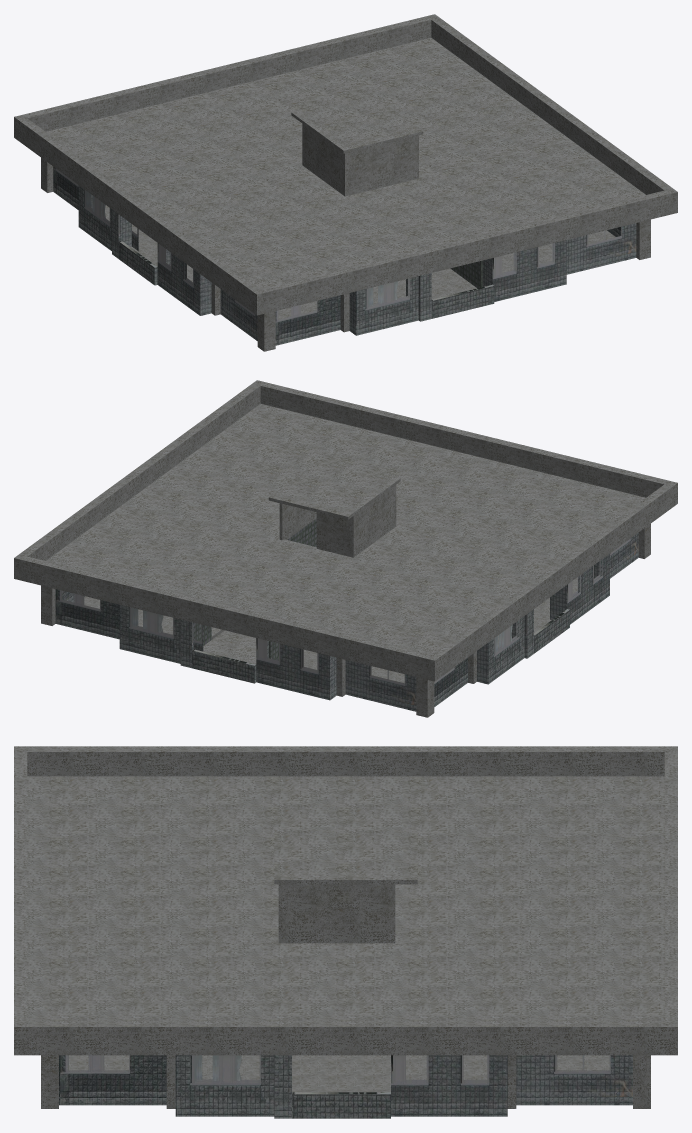
Rendered from BagSS07top_500.fbx.
The picture shows the model from 3 angles, top to bottom: view 1: azimuth 30°, elevation 25°; view 2: azimuth 150°, elevation 25°; view 3: azimuth 270°, elevation 25°; orthographic projection. The views are drawn at different scales.
Visible parts, largest first — view 1: topRoof500, topMain500, topFloors500, topWalls500; view 2: topRoof500, topMain500, topFloors500, topWalls500; view 3: topRoof500, topMain500, topFloors500.
Part boxes in pixels (x1=…): topRoof500: x1=14, y1=14, x2=677, y2=351; topMain500: x1=53, y1=167, x2=636, y2=345; topFloors500: x1=105, y1=205, x2=615, y2=319; topWalls500: x1=450, y1=260, x2=482, y2=288; topRoof500: x1=14, y1=380, x2=677, y2=717; topMain500: x1=55, y1=533, x2=638, y2=711; topFloors500: x1=84, y1=577, x2=577, y2=683; topWalls500: x1=193, y1=518, x2=316, y2=660; topRoof500: x1=14, y1=746, x2=677, y2=1108; topMain500: x1=59, y1=1055, x2=632, y2=1118; topFloors500: x1=69, y1=1055, x2=609, y2=1092.
Bounding box in the file's own units: 35.52 × 7.92 × 35.52.
